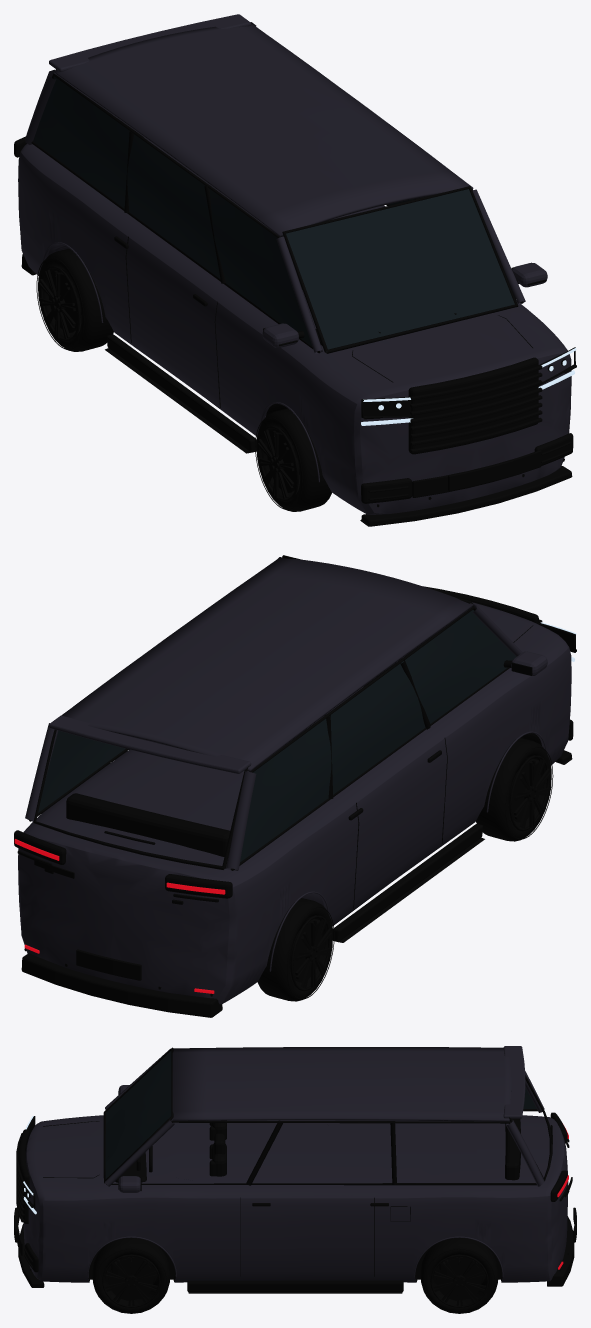
The model's file is vellfire.glb.
The picture shows the model from 3 angles, top to bottom: view 1: azimuth 30°, elevation 25°; view 2: azimuth 150°, elevation 25°; view 3: azimuth 270°, elevation 25°; orthographic projection. The views are drawn at different scales.
Visible parts, largest first — view 1: chassis.001__Automotive clearcoat, chassis.001__Solar glass, chassis.001__Vehicle detail atlas, wheel_RL.001__Vehicle detail atlas, wheel_FL.001__Vehicle detail atlas, chassis.001__White LED optics; view 2: chassis.001__Automotive clearcoat, chassis.001__Solar glass, chassis.001__Vehicle detail atlas, wheel_FL.001__Vehicle detail atlas, wheel_RL.001__Vehicle detail atlas, chassis.001__Red LED optics; view 3: chassis.001__Automotive clearcoat, chassis.001__Vehicle detail atlas, wheel_RR.001__Vehicle detail atlas, wheel_FR.001__Vehicle detail atlas, chassis.001__Solar glass.
Boxes of the visible parts, x1=… form: chassis.001__Automotive clearcoat: x1=18, y1=14, x2=571, y2=514; chassis.001__Solar glass: x1=33, y1=76, x2=514, y2=351; chassis.001__Vehicle detail atlas: x1=14, y1=68, x2=575, y2=526; wheel_RL.001__Vehicle detail atlas: x1=36, y1=248, x2=113, y2=351; wheel_FL.001__Vehicle detail atlas: x1=255, y1=408, x2=331, y2=511; chassis.001__White LED optics: x1=361, y1=348, x2=576, y2=425; chassis.001__Automotive clearcoat: x1=18, y1=557, x2=571, y2=1004; chassis.001__Solar glass: x1=38, y1=610, x2=515, y2=862; chassis.001__Vehicle detail atlas: x1=14, y1=555, x2=575, y2=1017; wheel_FL.001__Vehicle detail atlas: x1=476, y1=738, x2=553, y2=841; wheel_RL.001__Vehicle detail atlas: x1=257, y1=898, x2=334, y2=1001; chassis.001__Red LED optics: x1=14, y1=839, x2=225, y2=993; chassis.001__Automotive clearcoat: x1=23, y1=1046, x2=568, y2=1282; chassis.001__Vehicle detail atlas: x1=14, y1=1047, x2=576, y2=1293; wheel_RR.001__Vehicle detail atlas: x1=420, y1=1237, x2=498, y2=1313; wheel_FR.001__Vehicle detail atlas: x1=92, y1=1237, x2=170, y2=1313; chassis.001__Solar glass: x1=105, y1=1051, x2=536, y2=1178.
Size of the model in its own units: 2.18 by 1.95 by 5.15.
Materials: 8 (6 with a texture image).
